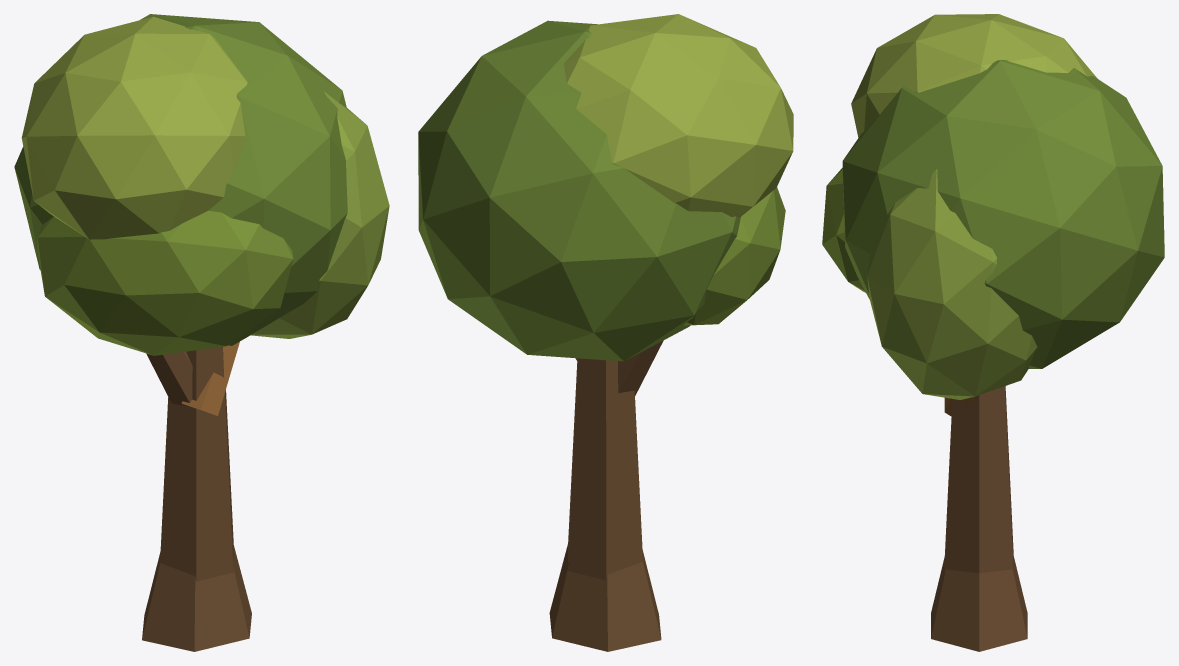
The model's file is tree-canopy-5.gltf.
3 renders of one model, left to right at view 1: azimuth 30°, elevation 25°; view 2: azimuth 150°, elevation 25°; view 3: azimuth 270°, elevation 25°, orthographic. The views are drawn at different scales.
Parts seen in each view (by area): view 1: tree-canopy-5; view 2: tree-canopy-5; view 3: tree-canopy-5.
Part boxes in pixels (<box>): tree-canopy-5: <box>14,14,389,651</box>; tree-canopy-5: <box>418,14,793,651</box>; tree-canopy-5: <box>822,14,1164,651</box>.
Size of the model in its own units: 1.02 by 1.78 by 0.9512.
